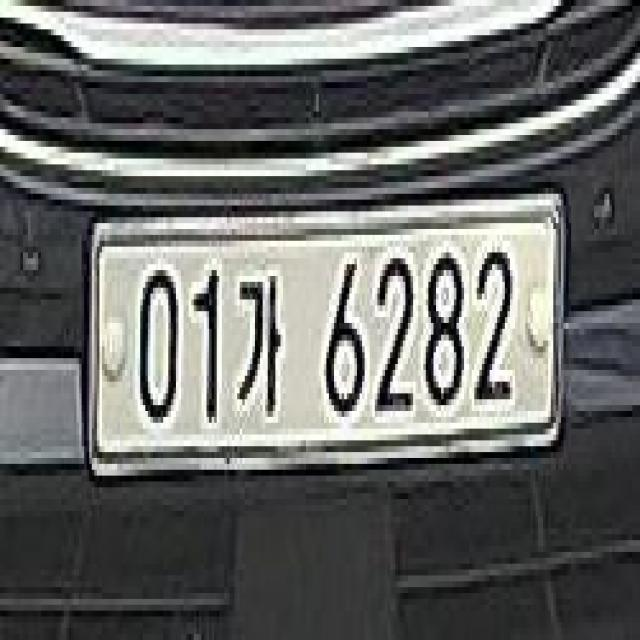illegal_plate: (87, 185, 564, 494)
